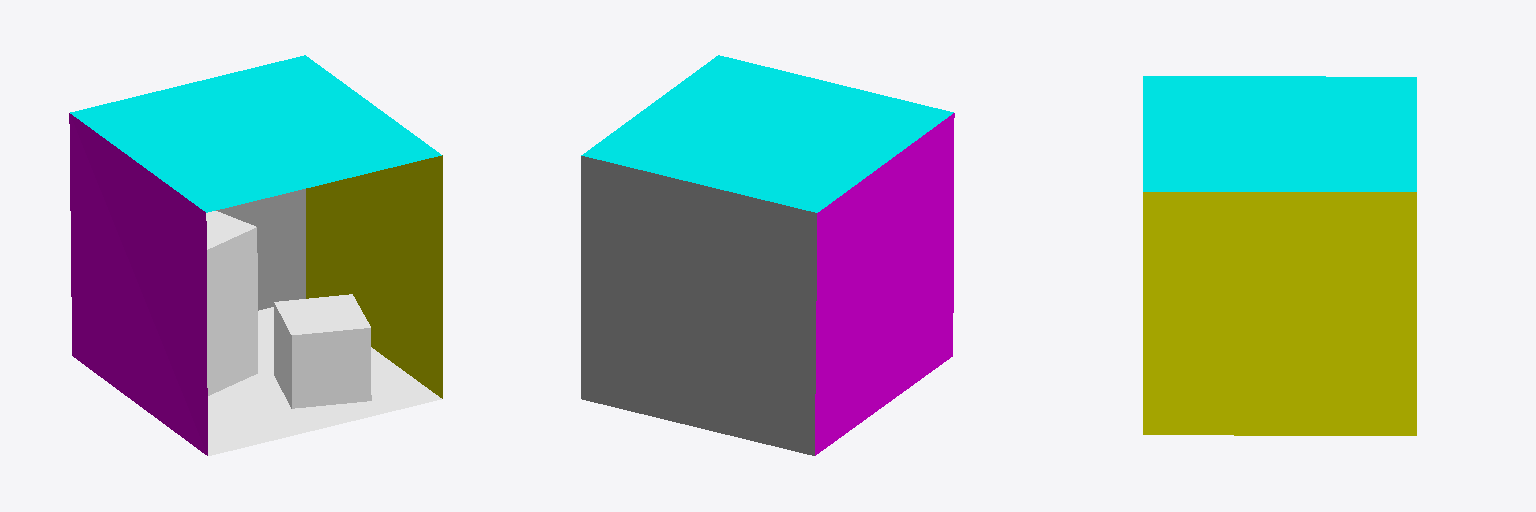
Rendered from cornell-box.obj.
3 renders of one model, left to right at view 1: azimuth 30°, elevation 25°; view 2: azimuth 150°, elevation 25°; view 3: azimuth 270°, elevation 25°, orthographic.
Parts seen in each view (by area): view 1: left_wall, ceiling, right_wall, floor, short_box, tall_box, back_wall; view 2: back_wall, left_wall, ceiling; view 3: right_wall, ceiling.
Boxes of the visible parts, box(x1,y1,x2,y2) form: left_wall: box(69, 113, 207, 455); ceiling: box(70, 55, 441, 212); right_wall: box(306, 155, 442, 398); floor: box(208, 307, 441, 455); short_box: box(274, 294, 371, 408); tall_box: box(206, 211, 257, 395); back_wall: box(216, 189, 305, 310); back_wall: box(581, 156, 816, 455); left_wall: box(815, 113, 954, 455); ceiling: box(581, 55, 953, 212); right_wall: box(1143, 192, 1416, 435); ceiling: box(1143, 76, 1416, 191).
Size of the model in its own units: 5.56 by 5.49 by 5.6.